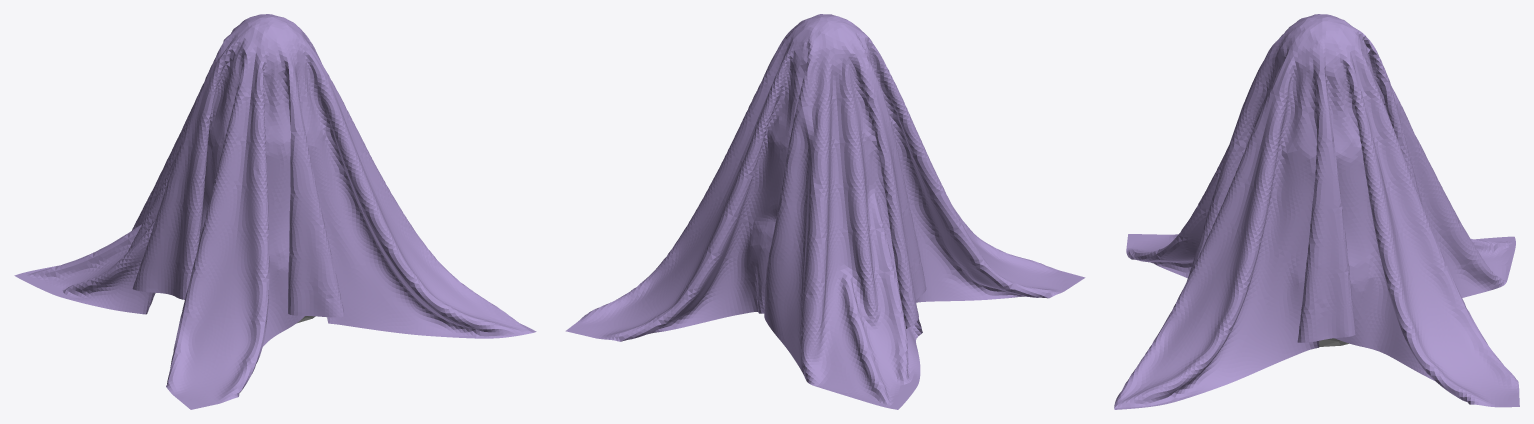
File: level_3.glb
3 renders of one model, left to right at view 1: azimuth 30°, elevation 25°; view 2: azimuth 150°, elevation 25°; view 3: azimuth 270°, elevation 25°, orthographic. The views are drawn at different scales.
Visible parts, largest first — view 1: world; view 2: world; view 3: world.
Part boxes in pixels (x1=…): world: x1=14, y1=14, x2=536, y2=409; world: x1=565, y1=14, x2=1085, y2=409; world: x1=1114, y1=14, x2=1519, y2=409.
Size of the model in its own units: 0.3691 by 0.2951 by 0.3594.
